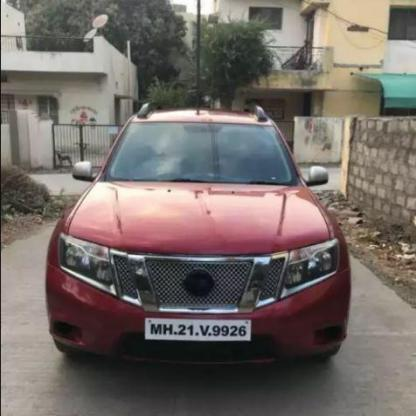license_plate: (143, 318, 250, 342)
